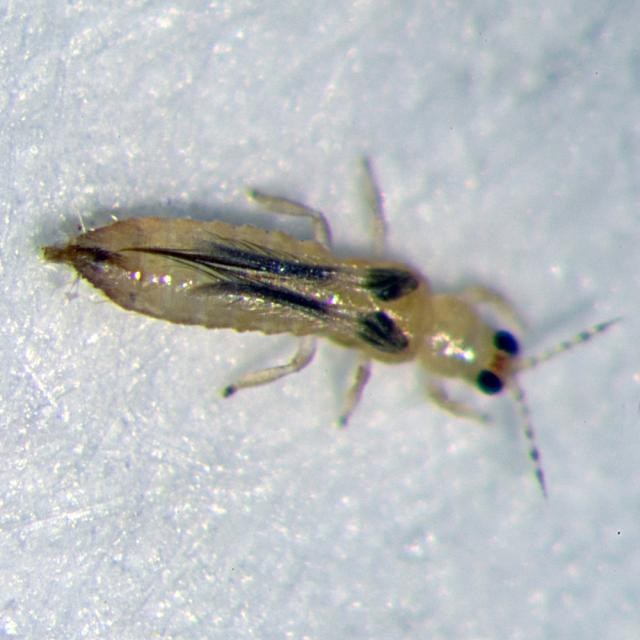thrip: (34, 152, 611, 470)
